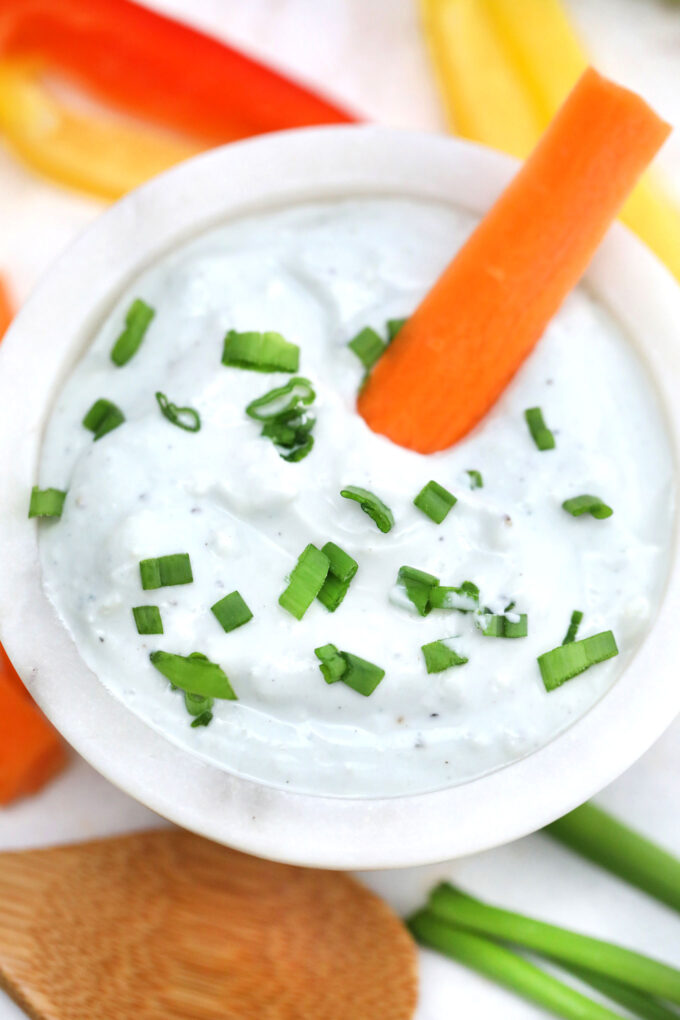cheese: (417, 103, 646, 512)
